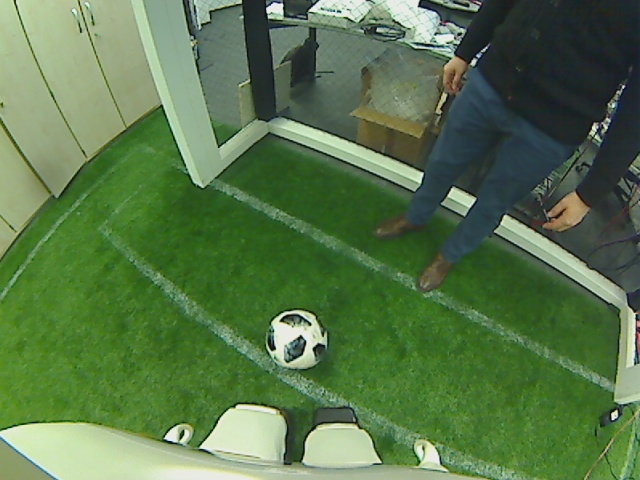ball: (264, 308, 329, 370)
